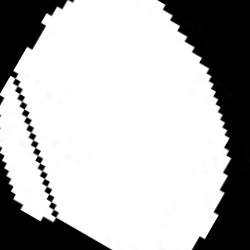spot: (1, 1, 232, 248)
